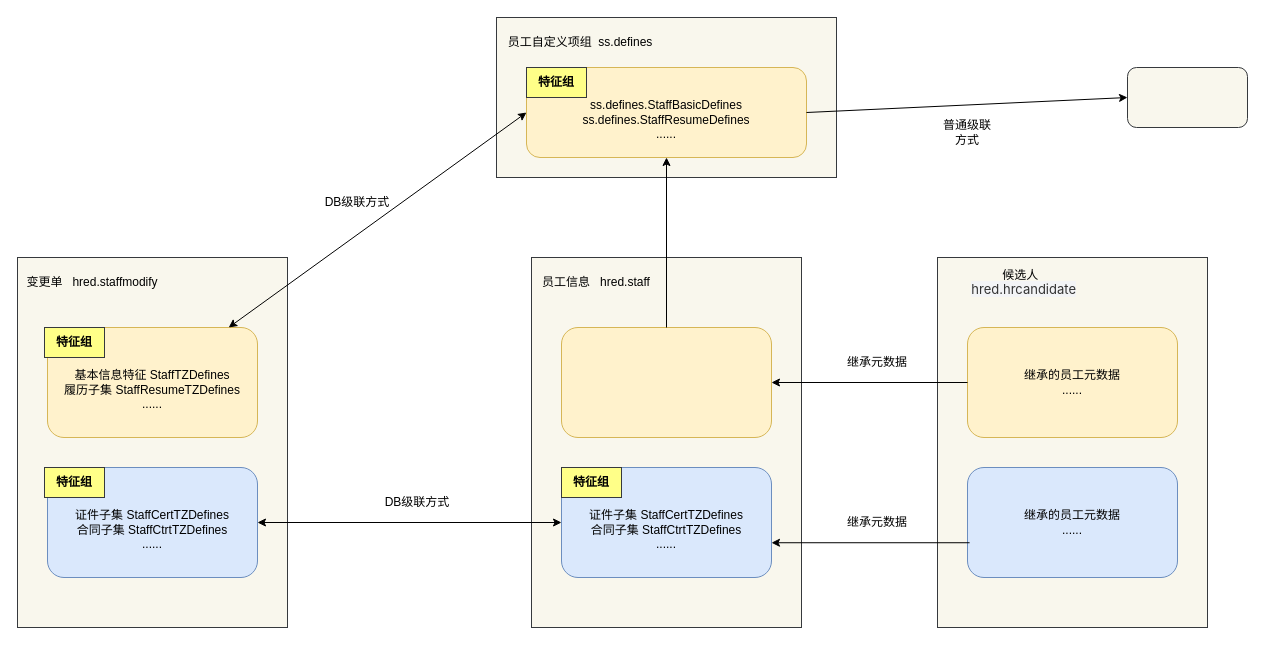
This 1265x645 diagram has some shape labels left out. Here are the shapes that lost their labels. From the top down, the centre of each, then its label:
(x=1187, y=97): 其他元数据？？？
(x=666, y=382): 基本信息 StaffTZDefines 履历子集 StaffResumeTZDefines ......
